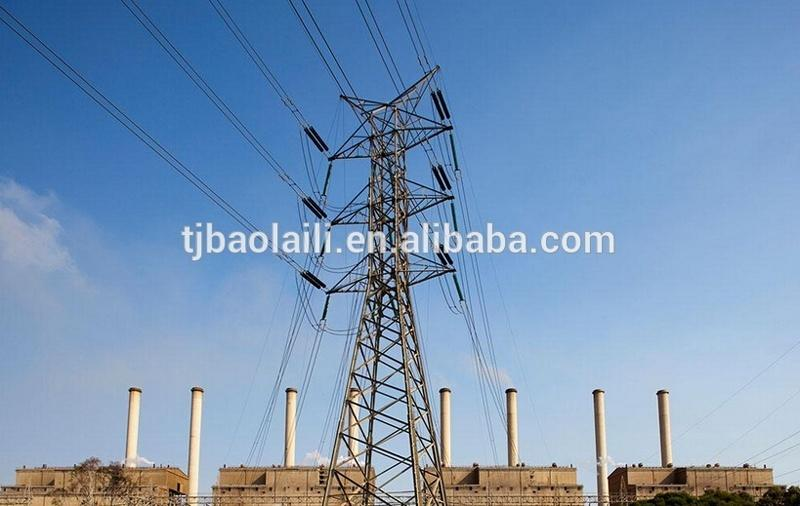power_tower: (286, 69, 490, 482)
